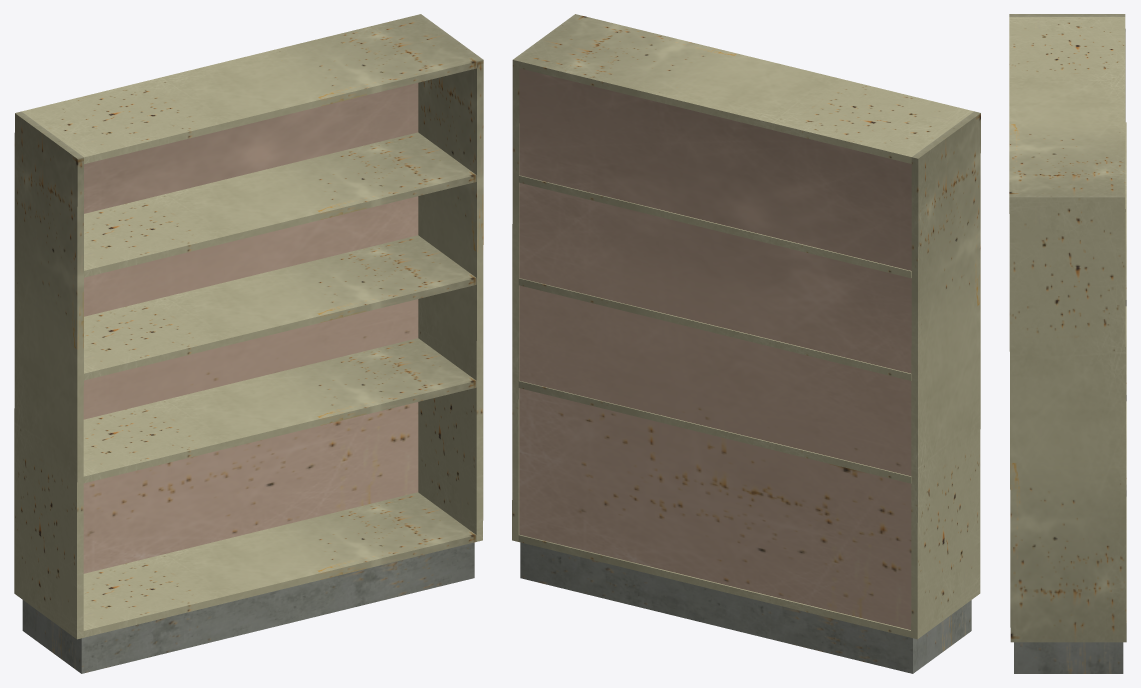
File: cabin01ab.fbx
The picture shows the model from 3 angles, left to right: view 1: azimuth 30°, elevation 25°; view 2: azimuth 150°, elevation 25°; view 3: azimuth 270°, elevation 25°; orthographic projection. The views are drawn at different scales.
Parts seen in each view (by area): view 1: cabin01ab; view 2: cabin01ab; view 3: cabin01ab.
Part boxes in pixels (x1,y1,x2,y2): cabin01ab: [14, 14, 483, 673]; cabin01ab: [512, 14, 980, 673]; cabin01ab: [1009, 14, 1126, 673].
Bounding box in the file's own units: 124 × 151 × 33.45.
